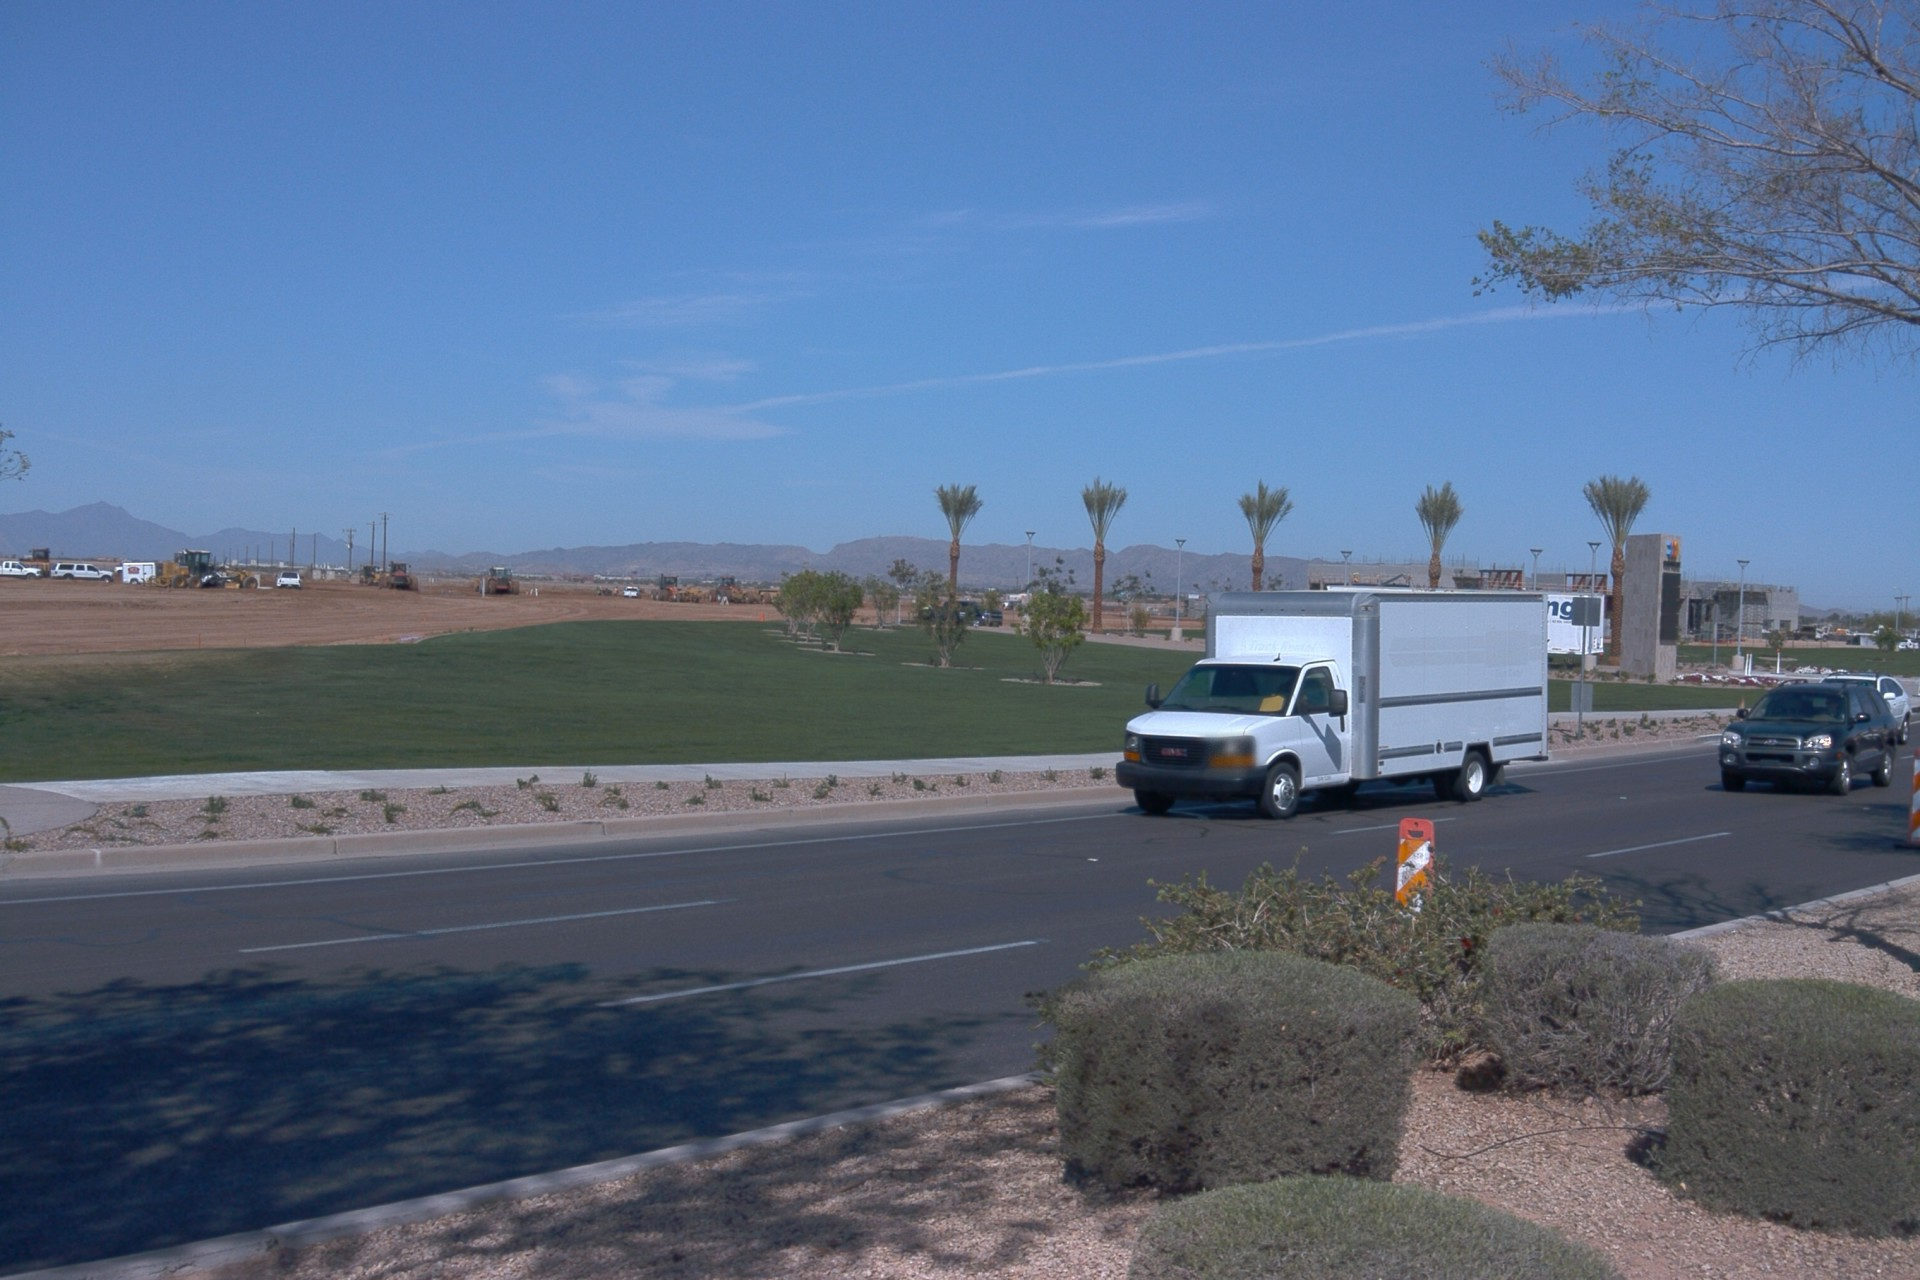TYPE_PEDESTRIAN: (611, 585, 619, 598), (596, 585, 603, 598), (921, 604, 933, 611)
TYPE_VEHICLE: (1113, 588, 1552, 822), (1322, 579, 1613, 658), (1716, 680, 1900, 797), (1816, 670, 1911, 747), (145, 547, 262, 593), (916, 601, 1005, 625), (377, 561, 425, 594), (474, 567, 521, 596), (51, 565, 112, 585), (0, 560, 45, 582), (995, 589, 1039, 609), (121, 563, 157, 586), (1380, 575, 1416, 589), (277, 573, 301, 592), (362, 566, 386, 585), (622, 582, 640, 596), (107, 564, 118, 575)
